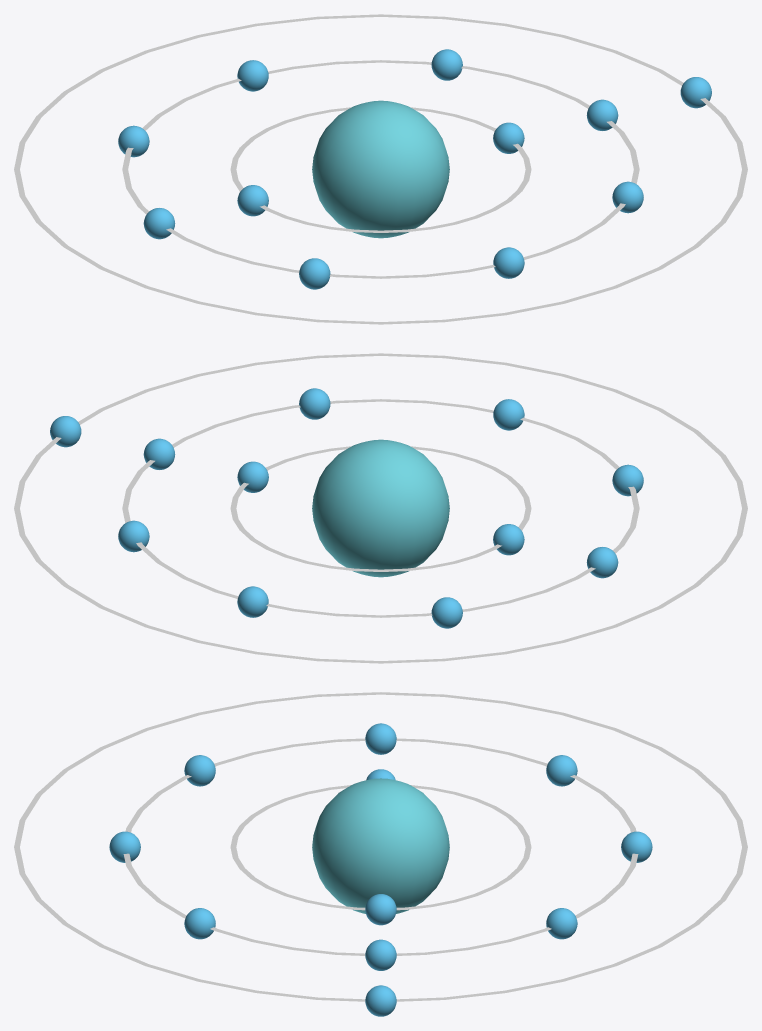
The model's file is sodium_atom.glb.
3 views of the same model, one above another, from view 1: azimuth 30°, elevation 25°; view 2: azimuth 150°, elevation 25°; view 3: azimuth 270°, elevation 25° (orthographic).
Parts seen in each view (by area): view 1: nucleus_node, shell_ring_2, shell_ring_1, shell_ring_0, electron_node_1_7, electron_node_1_2, electron_node_1_3, electron_node_1_6, electron_node_1_4, electron_node_0_1, electron_node_1_0, electron_node_0_0 (+3 smaller); view 2: nucleus_node, shell_ring_2, shell_ring_1, shell_ring_0, electron_node_1_1, electron_node_1_5, electron_node_1_6, electron_node_1_2, electron_node_1_4, electron_node_0_1, electron_node_1_0, electron_node_0_0 (+3 smaller); view 3: nucleus_node, shell_ring_2, shell_ring_1, shell_ring_0, electron_node_1_4, electron_node_2_0, electron_node_0_0, electron_node_1_0, electron_node_1_1, electron_node_1_3, electron_node_1_5, electron_node_1_7 (+2 smaller).
Boxes of the visible parts, box(x1,y1,x2,y2) form: nucleus_node: box(312, 100, 449, 238); shell_ring_2: box(14, 14, 747, 324); shell_ring_1: box(122, 60, 639, 278); shell_ring_0: box(230, 107, 531, 232); electron_node_1_7: box(431, 49, 462, 80); electron_node_1_2: box(493, 247, 524, 278); electron_node_1_3: box(299, 258, 330, 289); electron_node_1_6: box(237, 60, 268, 91); electron_node_1_4: box(143, 208, 175, 239); electron_node_0_1: box(237, 185, 268, 216); electron_node_1_0: box(586, 99, 618, 130); electron_node_0_0: box(493, 122, 524, 153); nucleus_node: box(312, 439, 449, 577); shell_ring_2: box(14, 353, 747, 663); shell_ring_1: box(122, 399, 639, 617); shell_ring_0: box(230, 446, 531, 571); electron_node_1_1: box(299, 388, 330, 419); electron_node_1_5: box(431, 597, 462, 628); electron_node_1_6: box(237, 586, 268, 617); electron_node_1_2: box(493, 399, 524, 430); electron_node_1_4: box(586, 547, 618, 578); electron_node_0_1: box(493, 524, 524, 555); electron_node_1_0: box(143, 438, 175, 469); electron_node_0_0: box(237, 461, 268, 492); nucleus_node: box(312, 778, 449, 913); shell_ring_2: box(14, 692, 747, 1001); shell_ring_1: box(123, 738, 638, 955); shell_ring_0: box(230, 785, 531, 910); electron_node_1_4: box(365, 723, 396, 754); electron_node_2_0: box(365, 985, 396, 1016); electron_node_0_0: box(365, 894, 396, 925); electron_node_1_0: box(365, 939, 396, 970); electron_node_1_1: box(184, 908, 215, 939); electron_node_1_3: box(184, 755, 215, 786); electron_node_1_5: box(546, 755, 577, 786); electron_node_1_7: box(546, 908, 577, 939).
Bounding box in the file's own units: 3.8 × 0.7 × 3.73.
